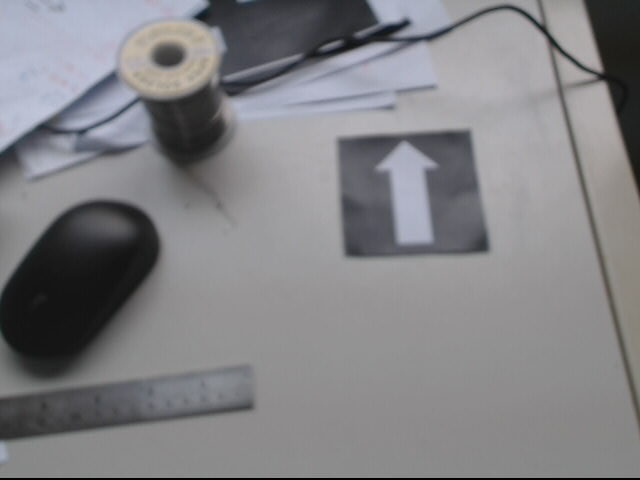straight: (337, 127, 488, 257)
